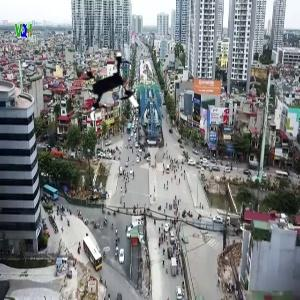drone: (75, 53, 152, 130)
